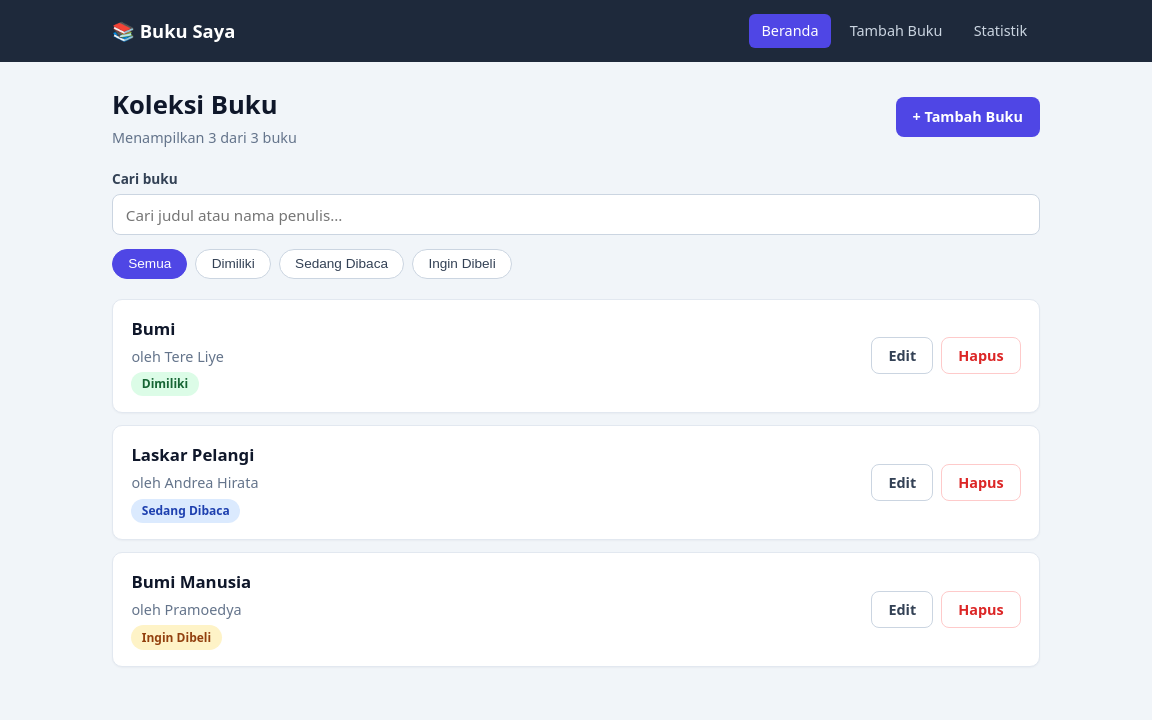
Test case: Aplikasi manajemen buku (integrasi) › menghapus buku setelah konfirmasi
Click the button with aria-label "Hapus Laskar Pelangi" at (981, 483), box [941,464,1021,501]
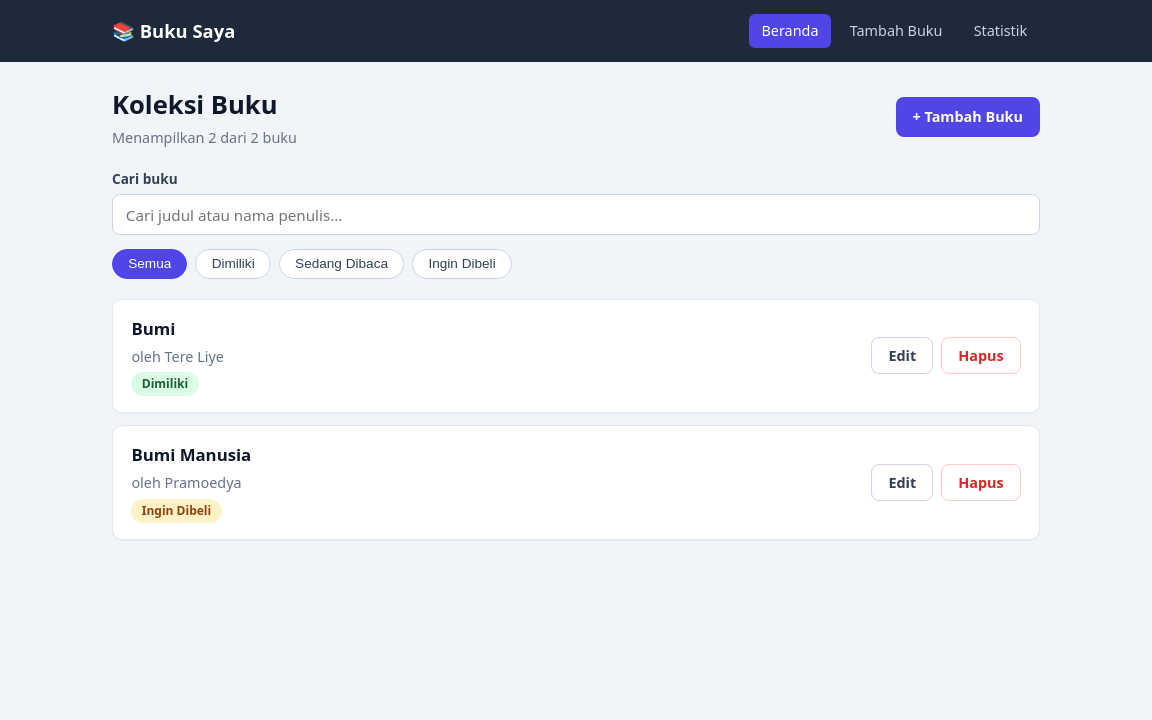
Result: the heading "Laskar Pelangi" is gone
